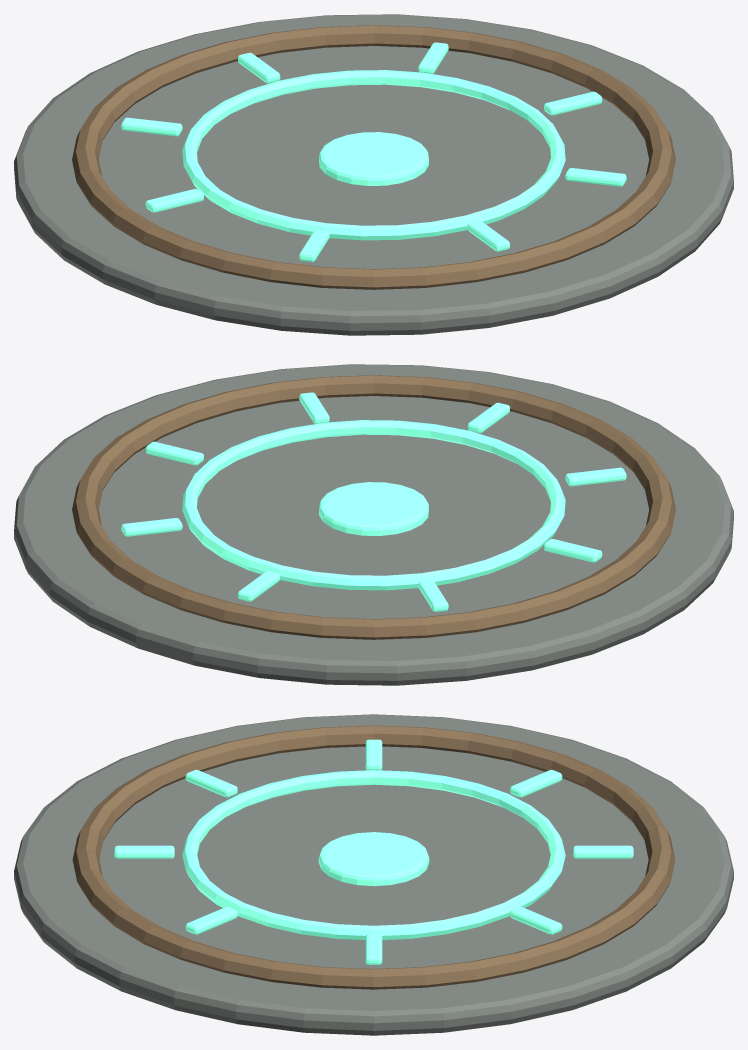
File: prop_escape_portal_qinglan_a.glb
3 renders of one model, top to bottom at view 1: azimuth 30°, elevation 25°; view 2: azimuth 150°, elevation 25°; view 3: azimuth 270°, elevation 25°, orthographic.
Visible parts, largest first — view 1: portal_stone_disc, portal_outer_ring, portal_inner_ring, portal_center, portal_rune_7, portal_rune_3, portal_rune_0, portal_rune_4, portal_rune_2, portal_rune_6, portal_rune_5, portal_rune_1; view 2: portal_stone_disc, portal_outer_ring, portal_inner_ring, portal_center, portal_rune_1, portal_rune_5, portal_rune_0, portal_rune_4, portal_rune_6, portal_rune_2, portal_rune_3, portal_rune_7; view 3: portal_stone_disc, portal_outer_ring, portal_inner_ring, portal_center, portal_rune_2, portal_rune_6, portal_rune_3, portal_rune_5, portal_rune_1, portal_rune_7, portal_rune_0, portal_rune_4.
Part boxes in pixels (box(x1,y1,x2,y2)): portal_stone_disc: box(14, 14, 733, 335); portal_outer_ring: box(72, 25, 675, 289); portal_inner_ring: box(182, 70, 565, 240); portal_center: box(319, 132, 428, 185); portal_rune_7: box(565, 168, 626, 186); portal_rune_3: box(121, 117, 182, 136); portal_rune_0: box(544, 91, 602, 115); portal_rune_4: box(145, 189, 203, 212); portal_rune_2: box(238, 52, 280, 83); portal_rune_6: box(467, 221, 509, 251); portal_rune_5: box(299, 230, 329, 261); portal_rune_1: box(418, 42, 448, 73); portal_stone_disc: box(14, 364, 733, 685); portal_outer_ring: box(72, 375, 675, 639); portal_inner_ring: box(182, 420, 565, 590); portal_center: box(319, 482, 428, 535); portal_rune_1: box(121, 518, 182, 536); portal_rune_5: box(565, 467, 626, 486); portal_rune_0: box(145, 441, 203, 465); portal_rune_4: box(544, 539, 602, 562); portal_rune_6: box(467, 402, 509, 433); portal_rune_2: box(238, 571, 280, 601); portal_rune_3: box(418, 580, 448, 611); portal_rune_7: box(299, 392, 329, 423); portal_stone_disc: box(14, 714, 733, 1035); portal_outer_ring: box(72, 725, 675, 989); portal_inner_ring: box(182, 770, 565, 939); portal_center: box(318, 832, 429, 886); portal_rune_2: box(573, 845, 633, 858); portal_rune_6: box(114, 845, 174, 858); portal_rune_3: box(510, 769, 562, 797); portal_rune_5: box(185, 769, 237, 797); portal_rune_1: box(510, 907, 562, 934); portal_rune_7: box(185, 907, 237, 934); portal_rune_0: box(365, 933, 382, 964); portal_rune_4: box(365, 739, 382, 770).
Size of the model in its own units: 4.3 by 0.26 by 4.3.
